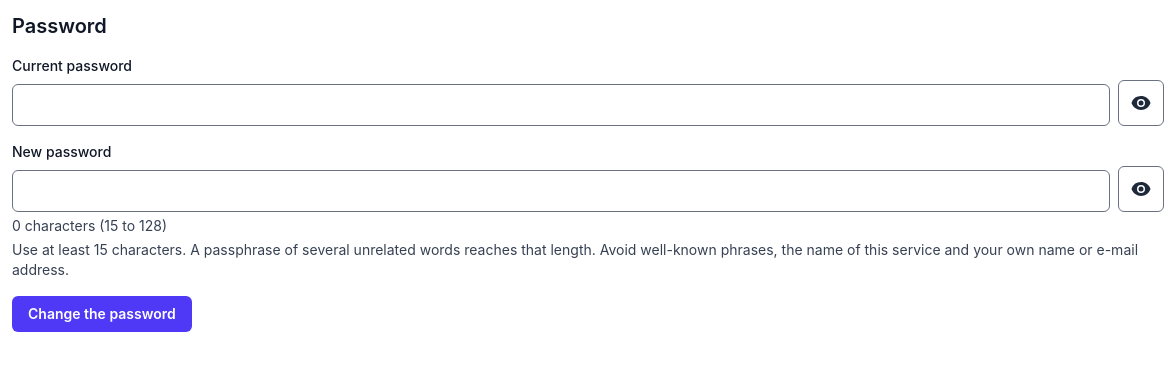
Test case: success refetches the session and shows the confirmation in a status region
In the password field labelled "Current password": [561, 105] box [12,84,1110,126], type "the current passphrase"
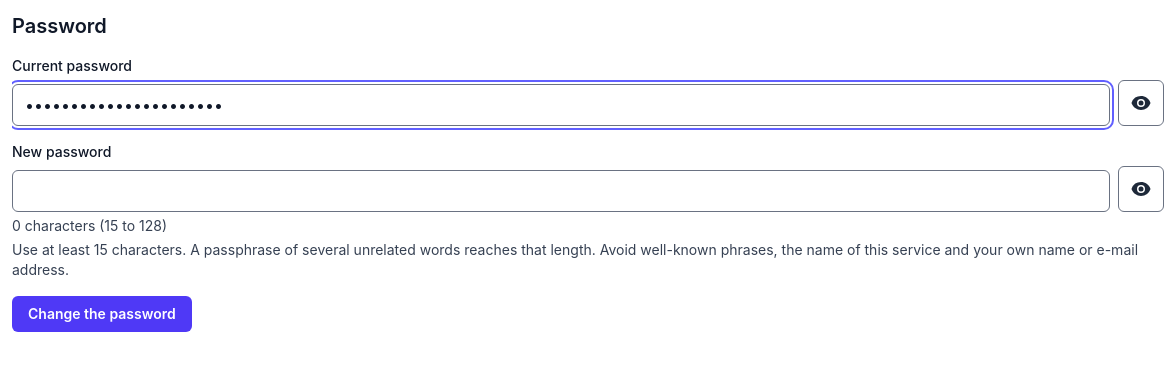
In the password field labelled "New password": [561, 191] box [12,170,1110,212], type "a new long passphrase"
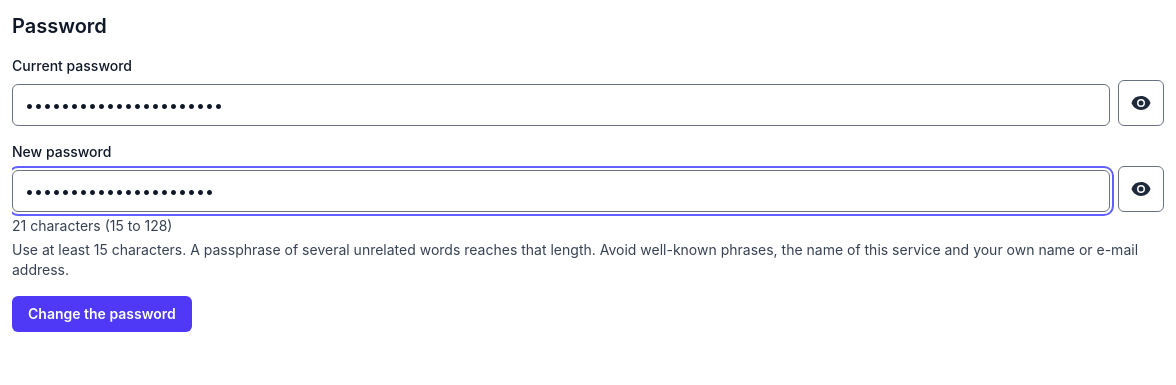
Click the button "Change the password": [102, 314] box [12,296,192,332]
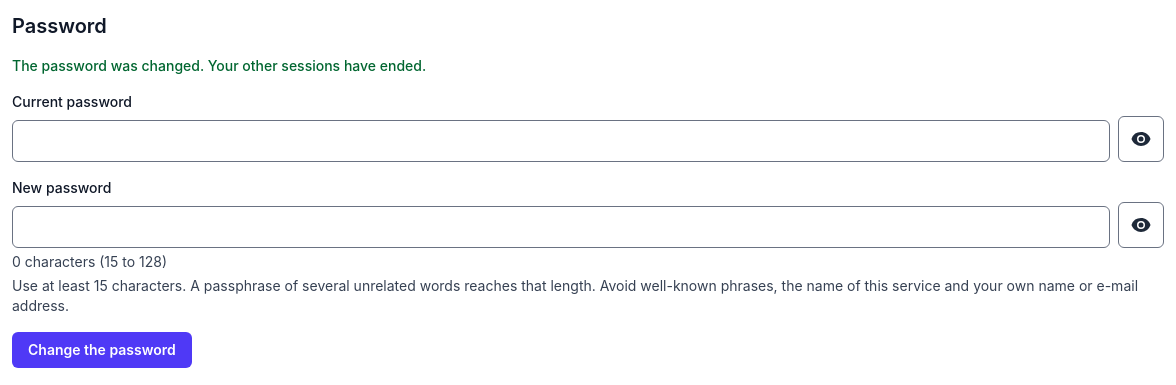
Expected: the message reads "The password was changed. Your other sessions have ended.", [12,57,426,74]
Expected: the password field labelled "Current password" is empty, [12,120,1110,162]
Expected: the password field labelled "New password" is empty, [12,206,1110,248]
